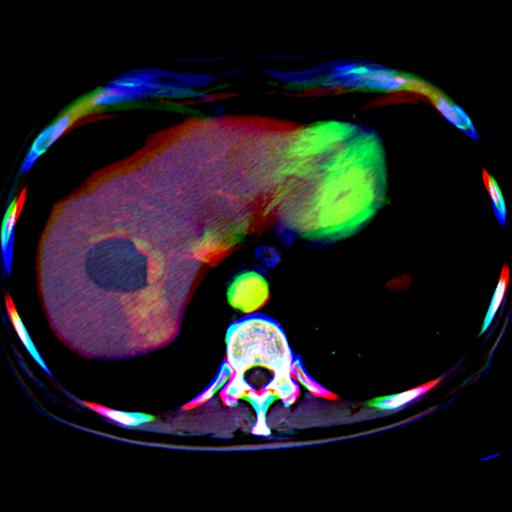Tumor: (86, 240, 147, 292)
